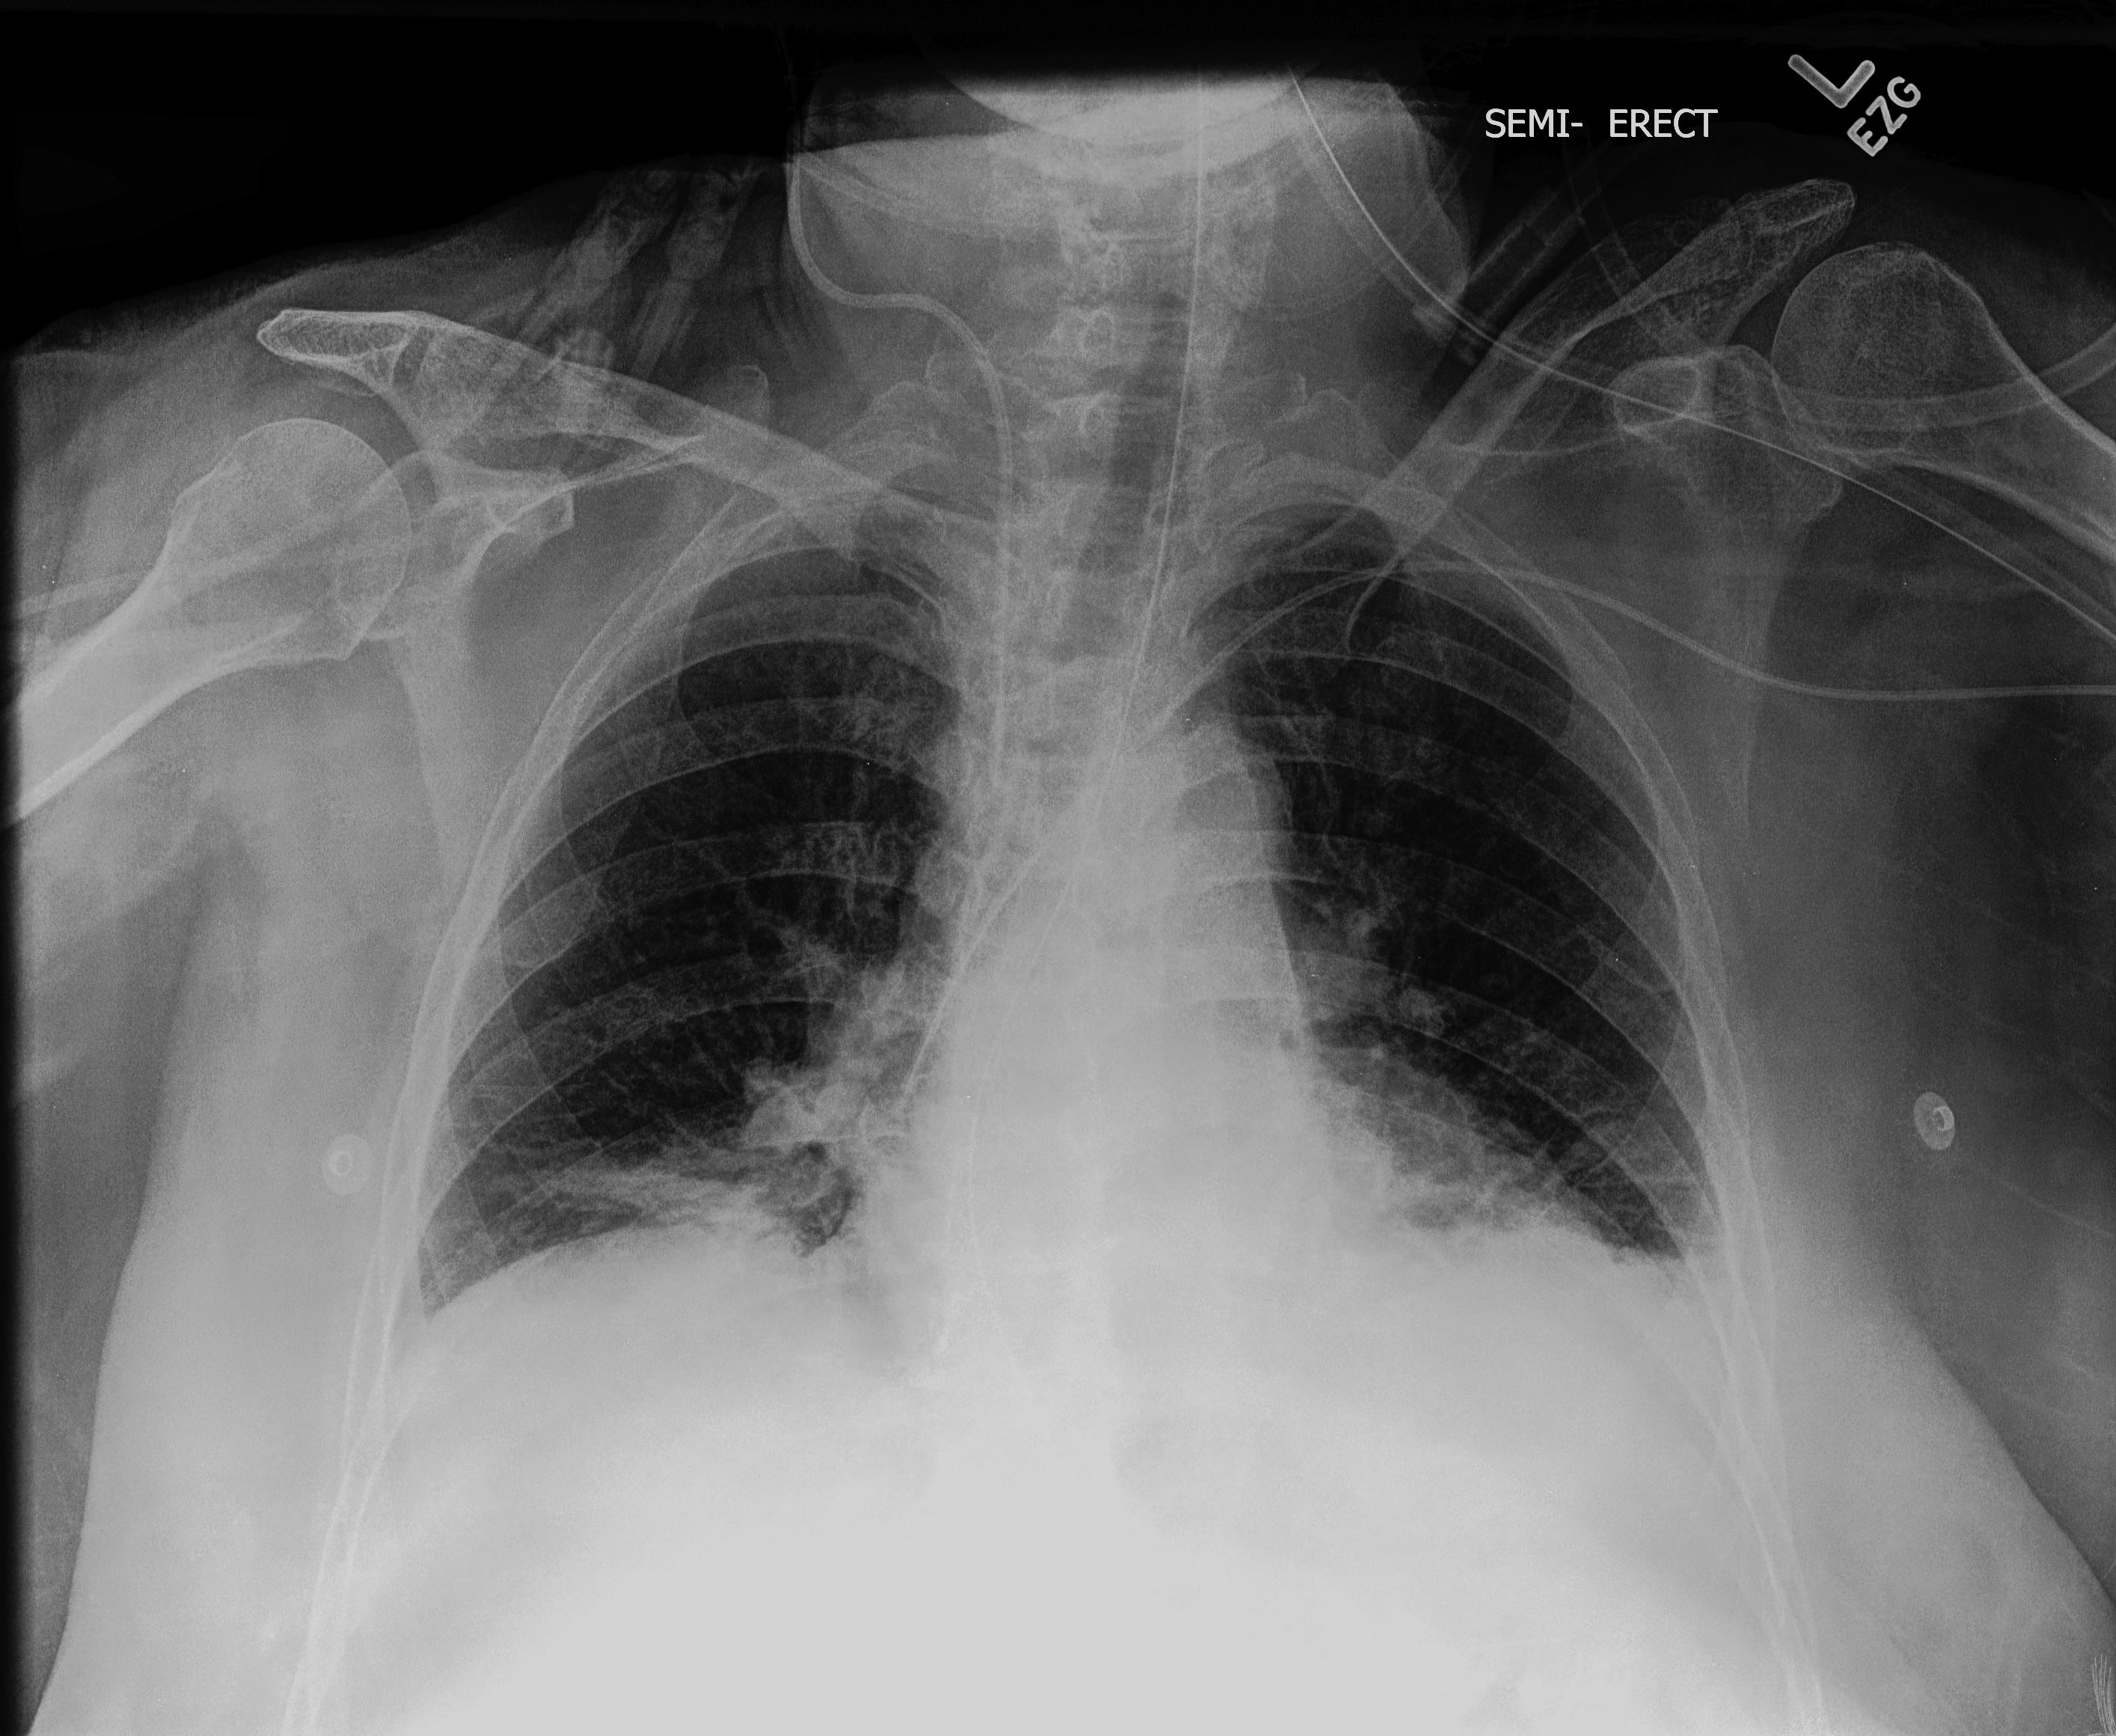Pleural Effusion: (1330, 1163, 1805, 1690), (330, 1154, 859, 1604)
